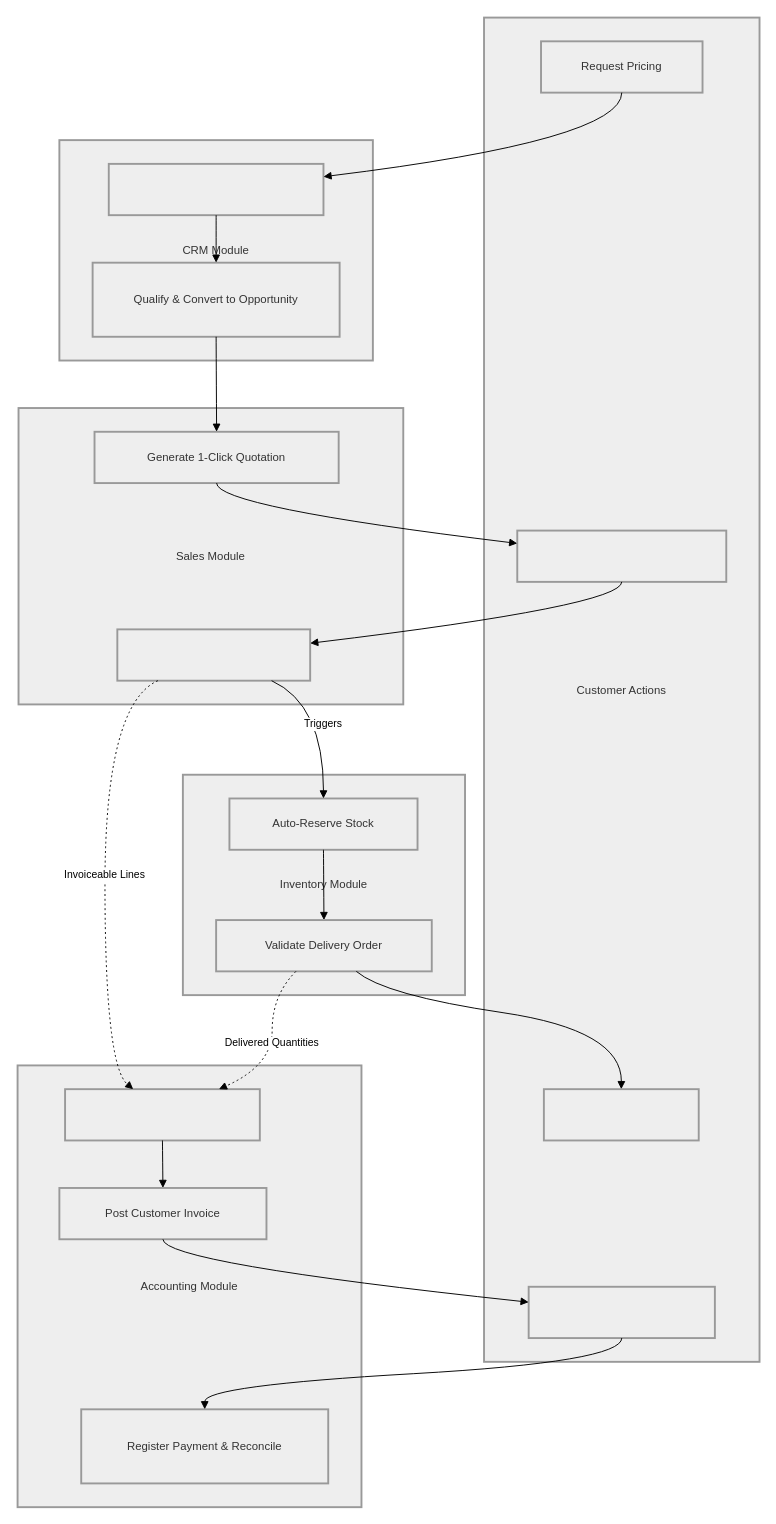
The diagram is 776 pixels wide and 1524 high, and some of its shapes have lost their labels. Here are the shapes that lost their labels. From the top down, the centre of each, then its label:
At point 215,189: "Capture Lead via Email".
At point 621,555: "Digitally Accept Quote".
At point 213,654: "Confirm Sales Order".
At point 162,1114: "Create Draft Invoice".
At point 620,1114: "Receive Goods".
At point 621,1312: "Send Bank Transfer".
